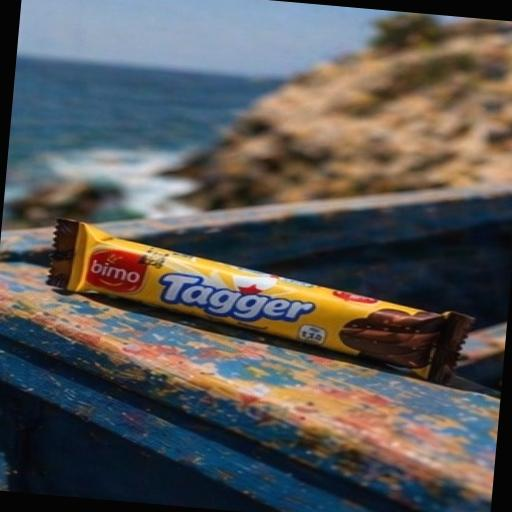tagger: (0, 174, 476, 420)
